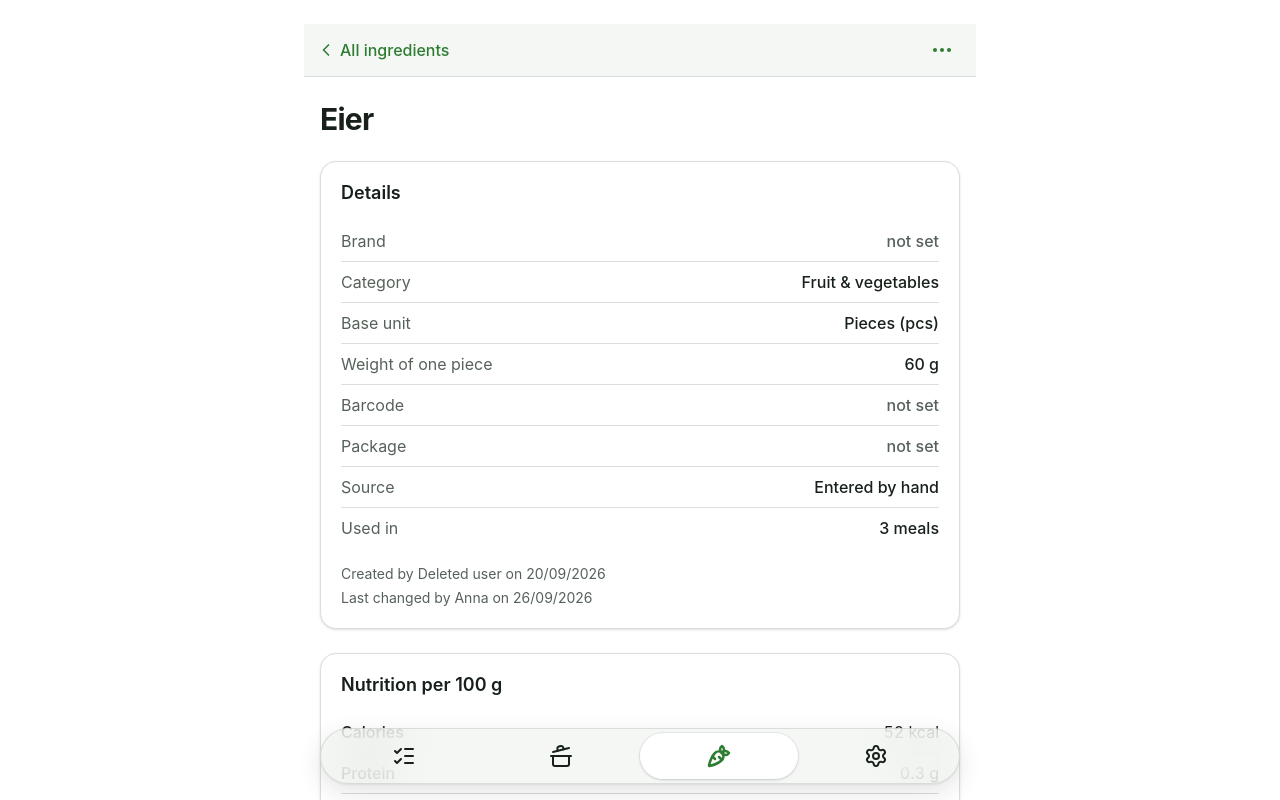
Scenario: IngredientDetailScreen › edits an ingredient counted in pieces; leaving “Pieces” clears its piece weight (ING-02)
The image size is (1280, 800).
What coordinates should you click on to do the following:
click the button with test id "more-actions"
I would click on:
 (942, 50)
Its box is [920,28,964,72].
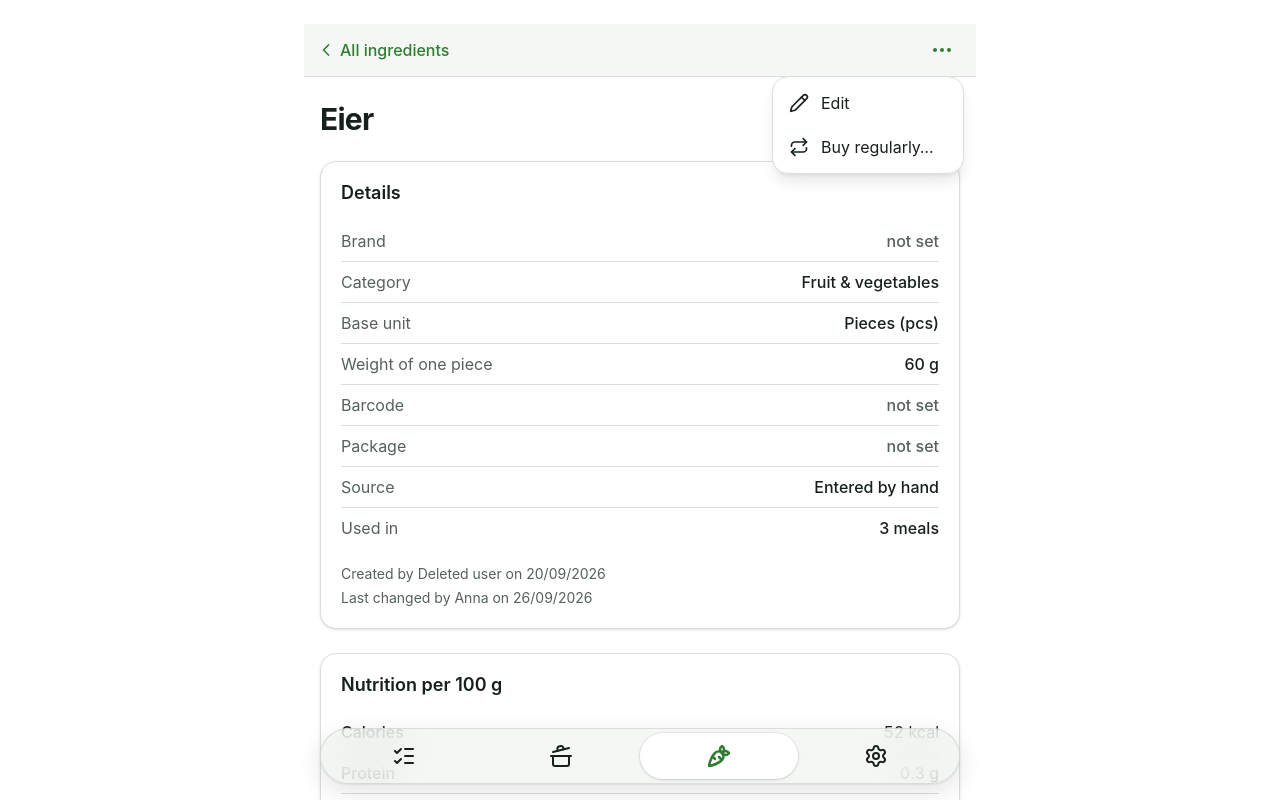
What coordinates should you click on to do the following:
click the menu item with test id "edit-ingredient"
I would click on:
 (819, 103)
Its box is [789,93,850,113].
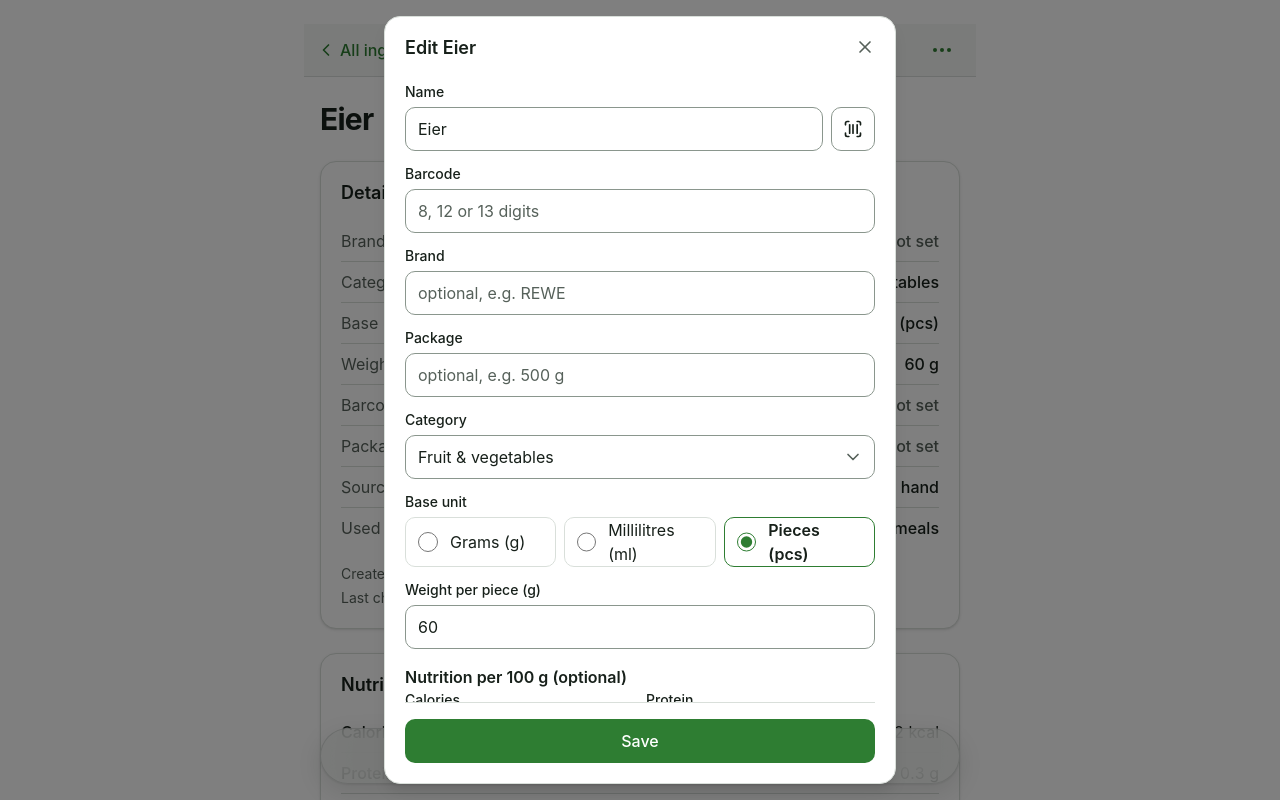
Check: the radio button labelled "Pieces (pcs)" is checked, box [737,532,756,552]
Check: the field labelled "Weight per piece (g)" holds "60", box [405,605,875,649]
What coordinates should you click on to do the following:
click the radio button labelled "Grams (g)"
I would click on:
 (428, 542)
Its box is [418,532,438,552].
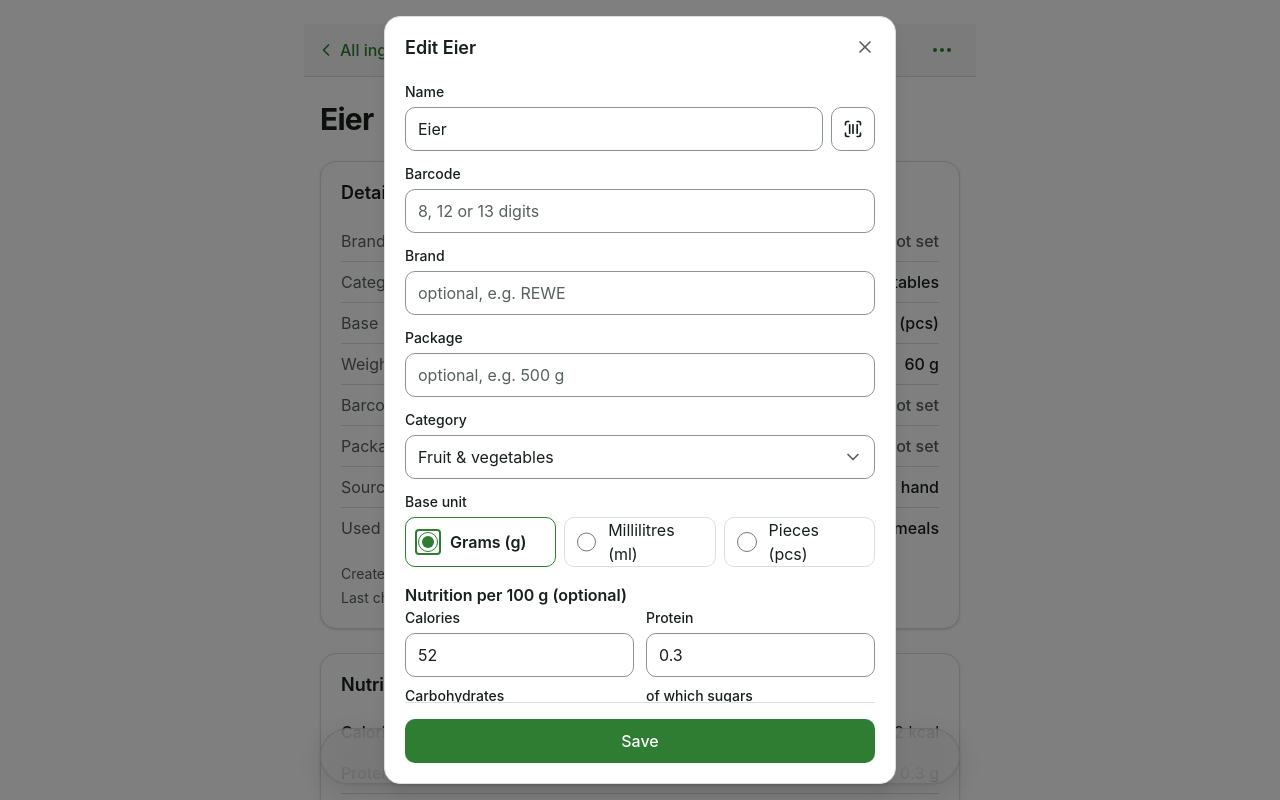
Check: the label labelled "Weight per piece (g)" is gone
What coordinates should you click on to do the following:
click the radio button labelled "Pieces (pcs)"
I would click on:
 (747, 542)
Its box is [737,532,757,552].
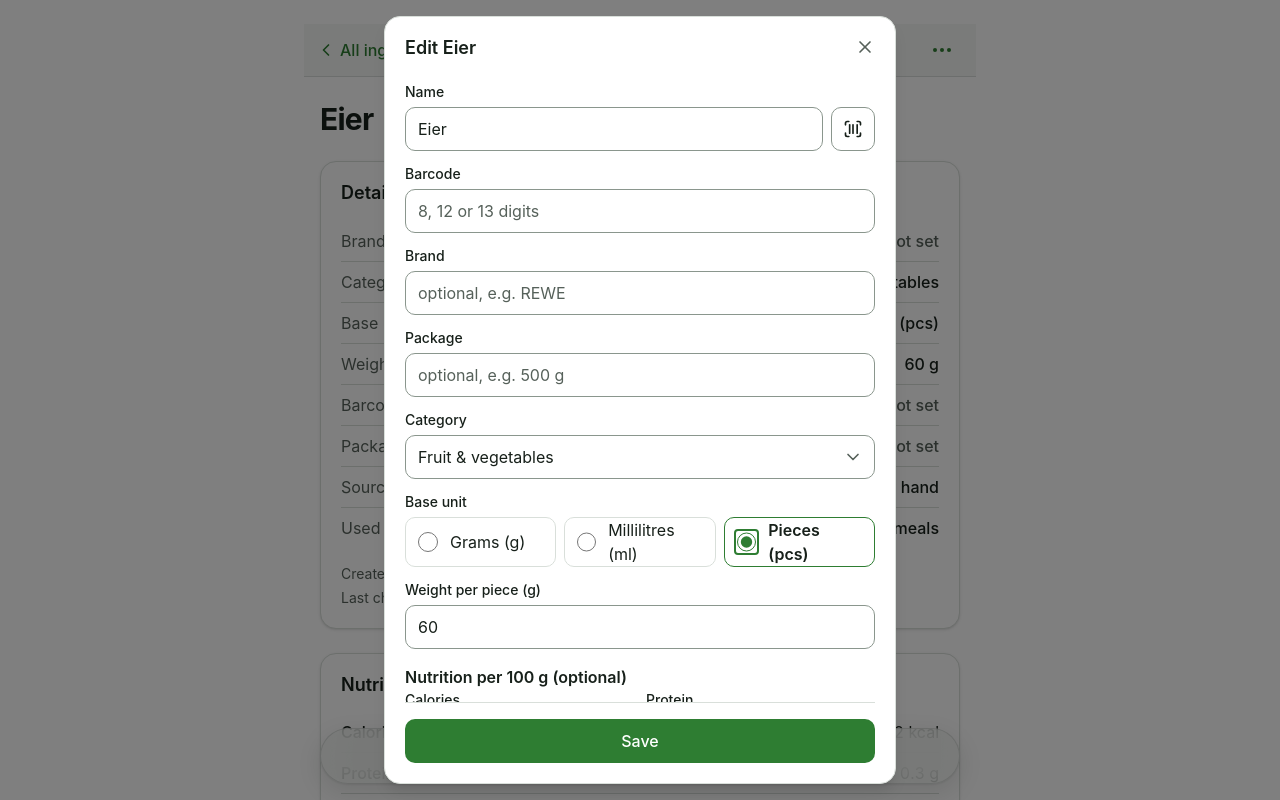
Check: the field labelled "Weight per piece (g)" holds "60", box [405,605,875,649]
What coordinates should you click on to do the following:
click the radio button labelled "Grams (g)"
I would click on:
 (428, 542)
Its box is [418,532,438,552].
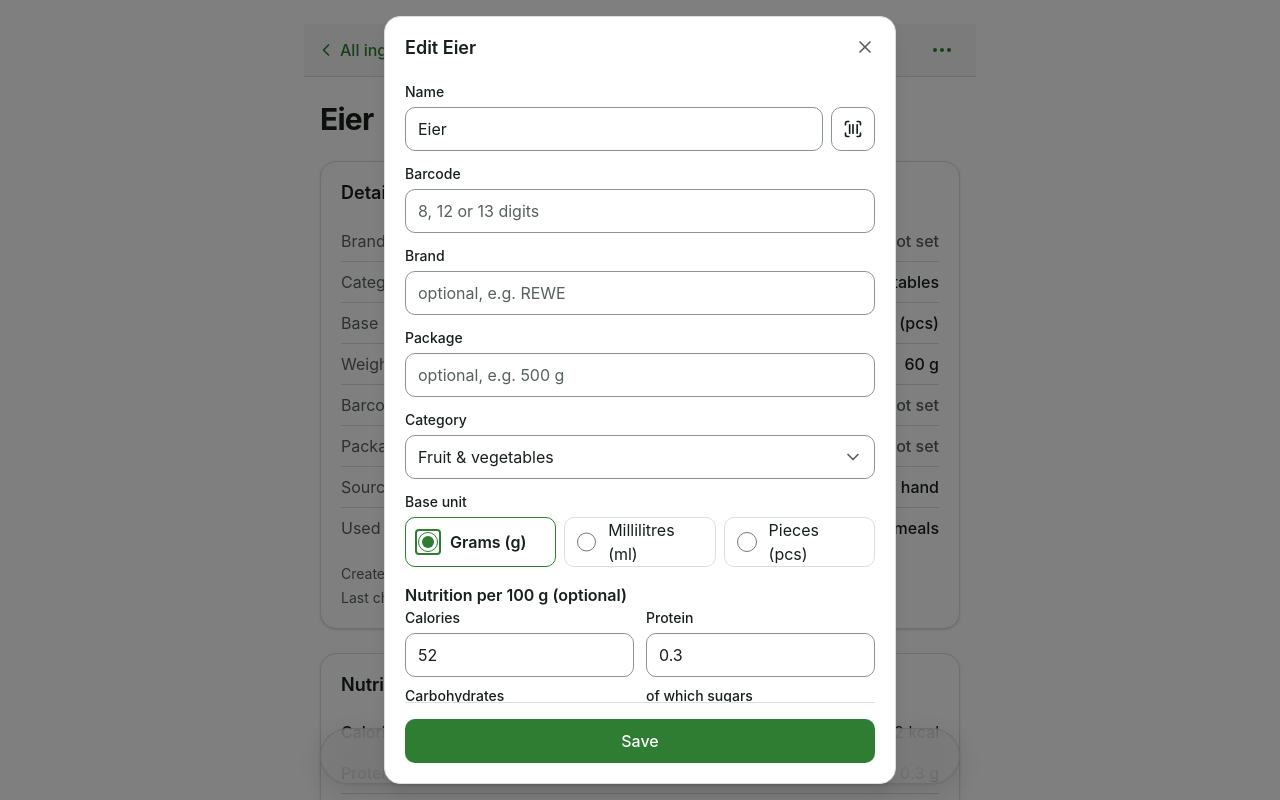
What coordinates should you click on to do the following:
click the button "Save"
I would click on:
 (640, 741)
Its box is [405,719,875,763].
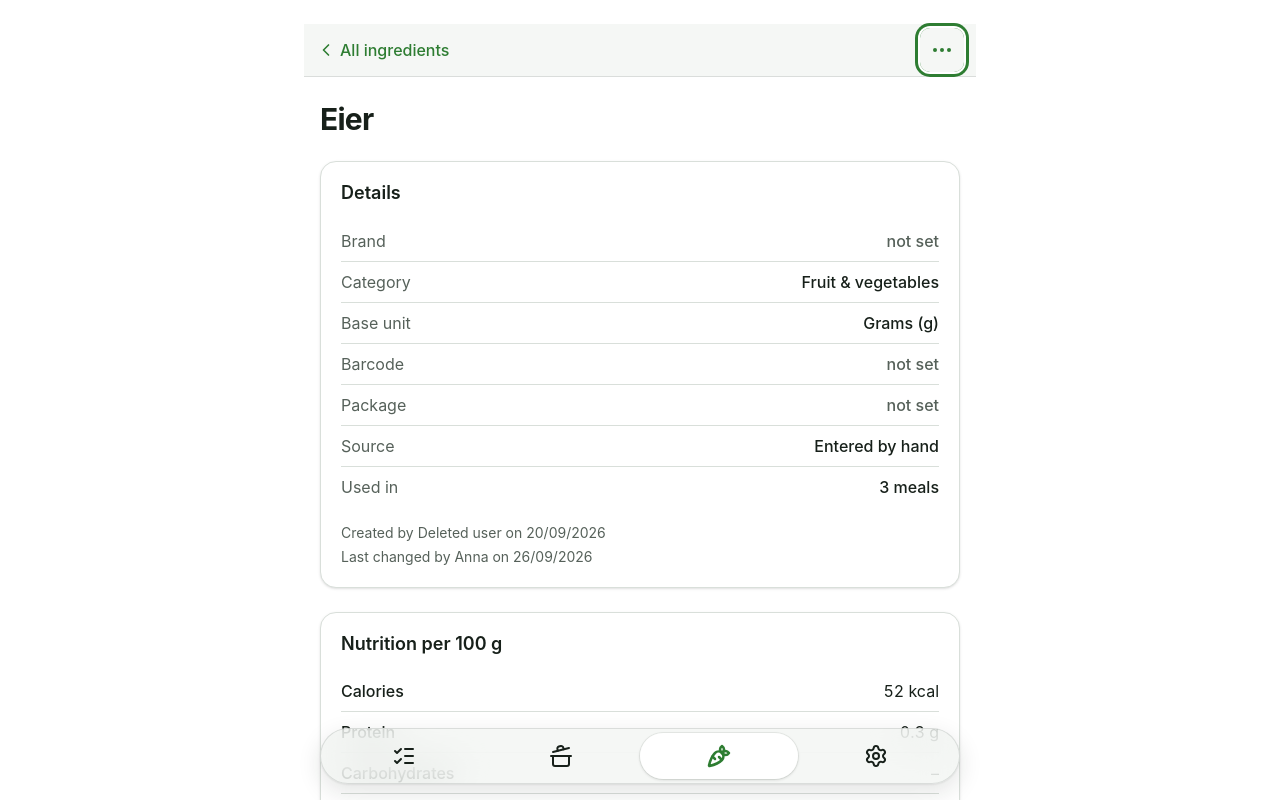
Check: the heading "Edit Eier" is gone
